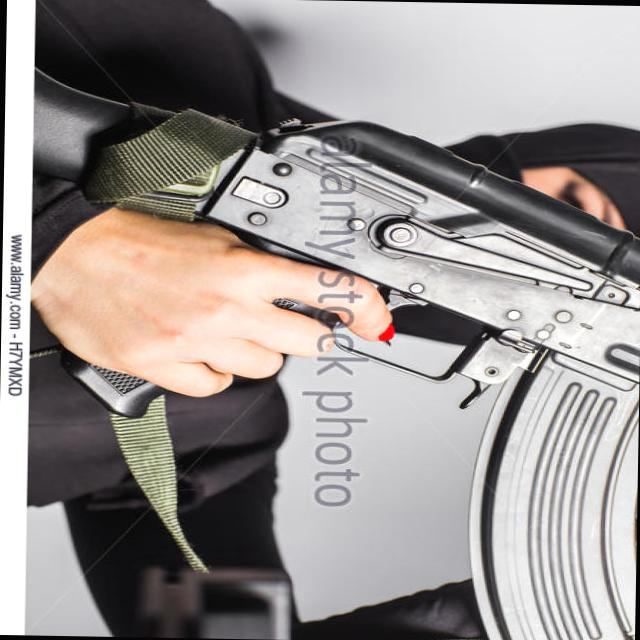handgun: (28, 61, 639, 435)
